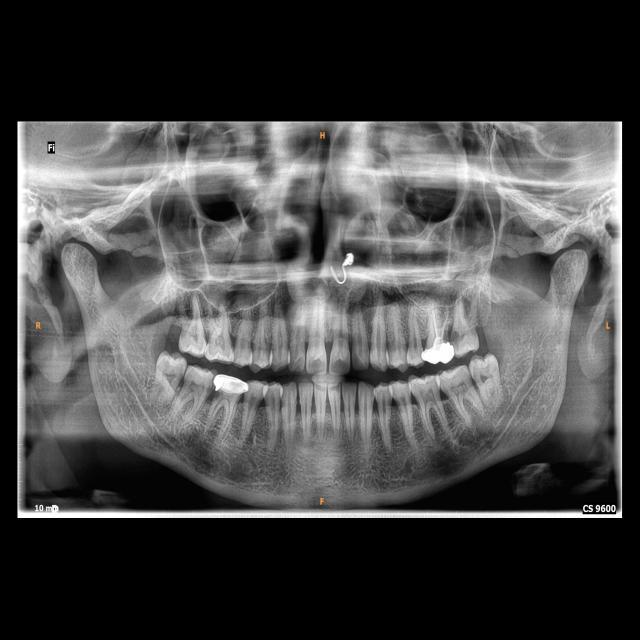dentin-curugu: (450, 328, 466, 347), (210, 389, 226, 401)
kanal-tedavisi: (432, 307, 447, 345)
kaplama: (422, 341, 456, 366), (212, 374, 249, 396)
